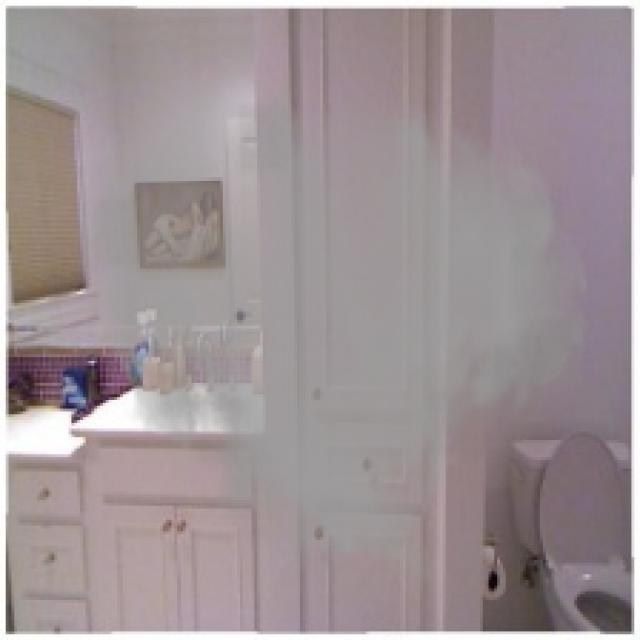Smoke: (77, 66, 594, 592)
